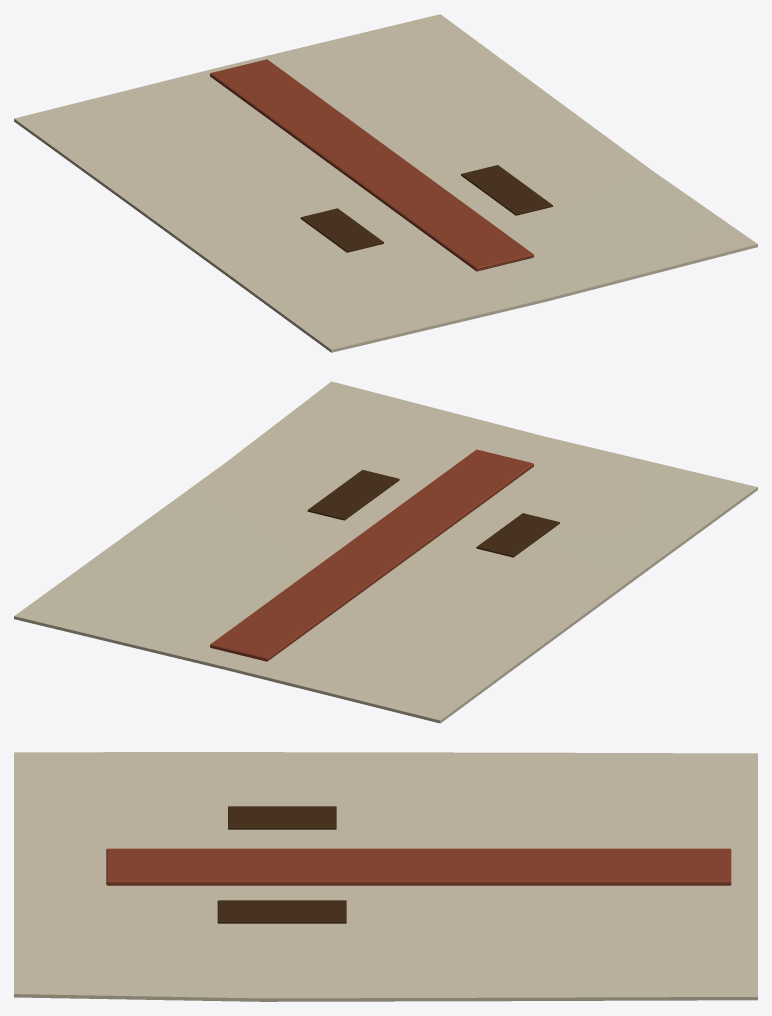
The model's file is memory-socket-lod1.fbx.
3 renders of one model, top to bottom at view 1: azimuth 30°, elevation 25°; view 2: azimuth 150°, elevation 25°; view 3: azimuth 270°, elevation 25°, orthographic. The views are drawn at different scales.
Parts seen in each view (by area): view 1: Gently curled returned memory page, Laid memory binding strip, Faded name field stroke.002, Faded name field stroke; view 2: Gently curled returned memory page, Laid memory binding strip, Faded name field stroke.002, Faded name field stroke; view 3: Gently curled returned memory page, Laid memory binding strip, Faded name field stroke.002, Faded name field stroke.
Boxes of the visible parts, left/top/right/bottom form: Gently curled returned memory page: left=14, top=14, right=757, bottom=352; Laid memory binding strip: left=210, top=59, right=533, bottom=271; Faded name field stroke.002: left=461, top=165, right=552, bottom=215; Faded name field stroke: left=300, top=208, right=383, bottom=252; Gently curled returned memory page: left=14, top=381, right=757, bottom=723; Laid memory binding strip: left=210, top=449, right=533, bottom=661; Faded name field stroke.002: left=307, top=469, right=399, bottom=520; Faded name field stroke: left=476, top=513, right=559, bottom=557; Gently curled returned memory page: left=14, top=752, right=757, bottom=1001; Laid memory binding strip: left=106, top=848, right=731, bottom=885; Faded name field stroke.002: left=217, top=900, right=346, bottom=923; Faded name field stroke: left=228, top=806, right=336, bottom=829.
Size of the model in its own units: 22.8 by 0.6604 by 29.4.
